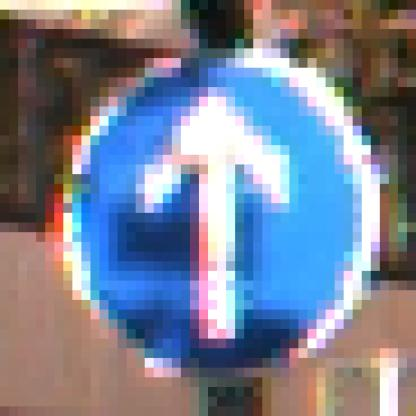AheadOnly: (55, 49, 363, 369)
